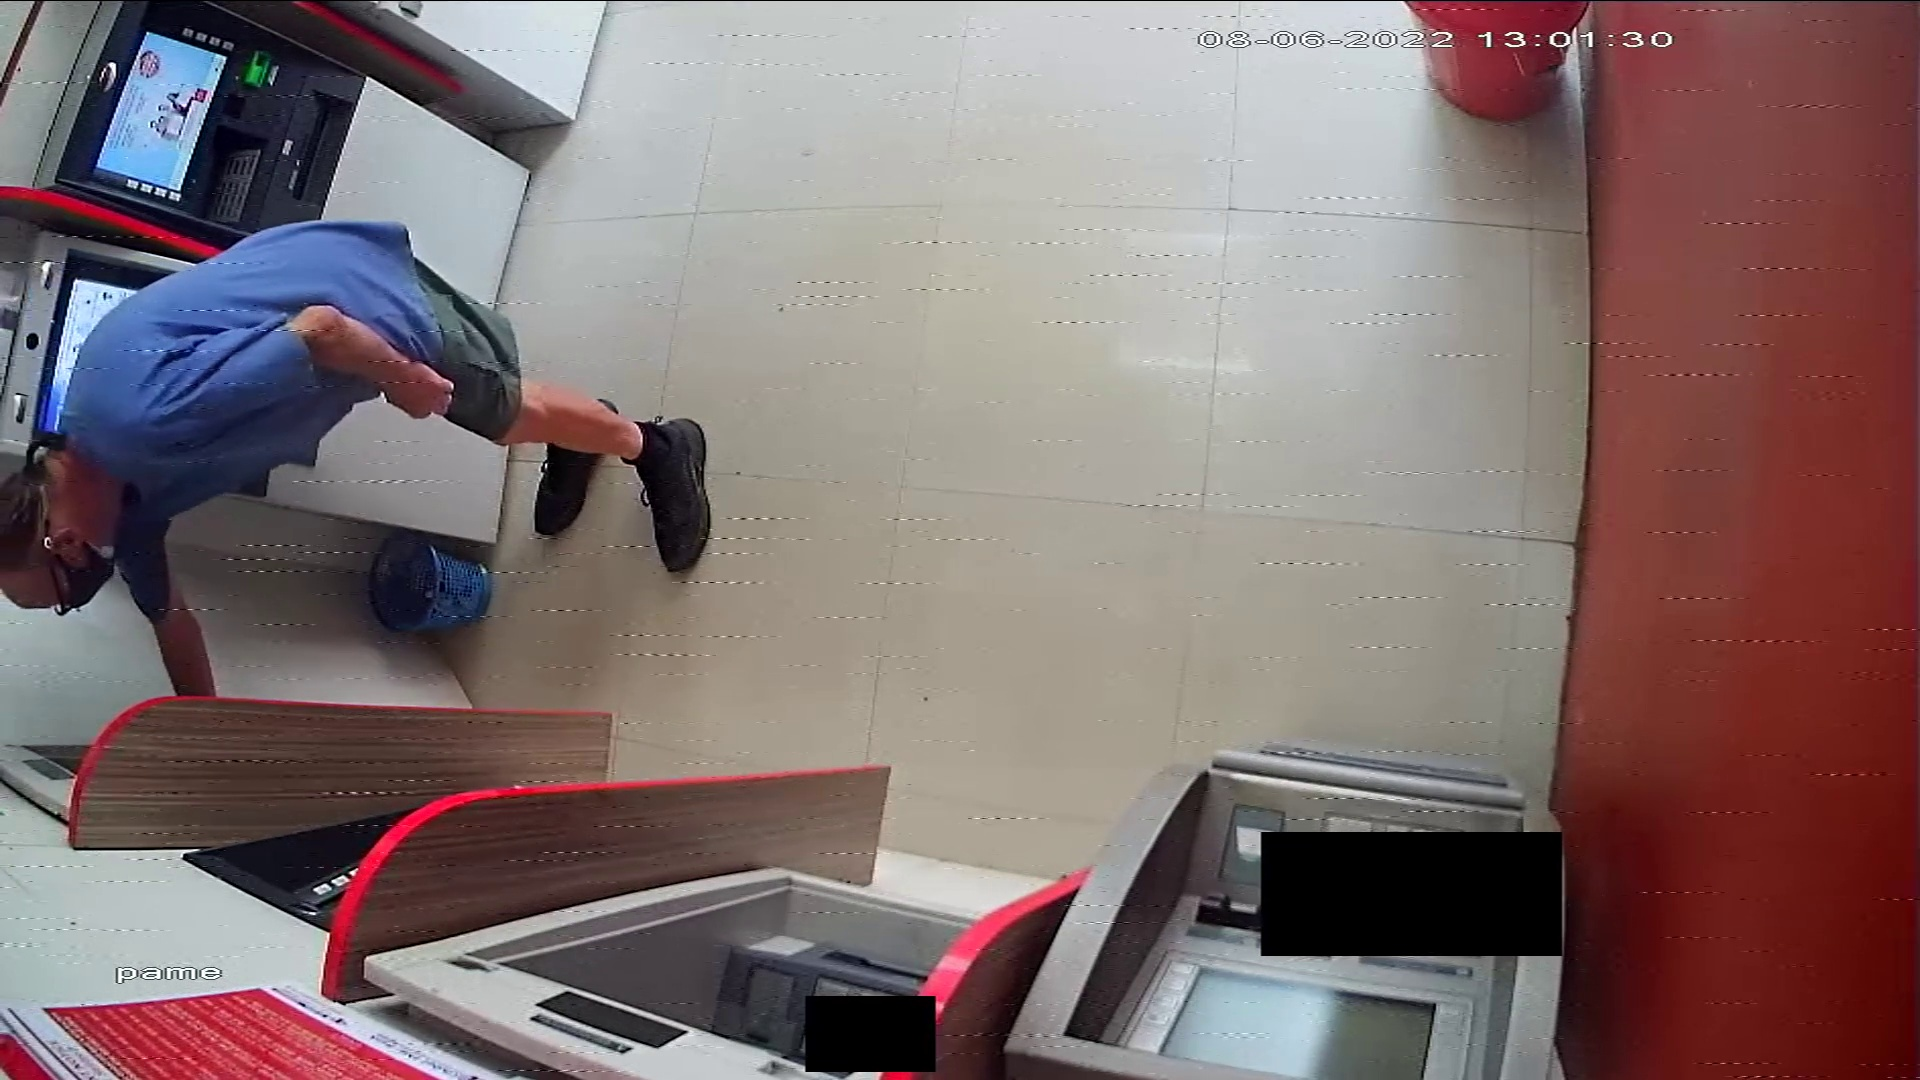person: (1, 209, 708, 691)
